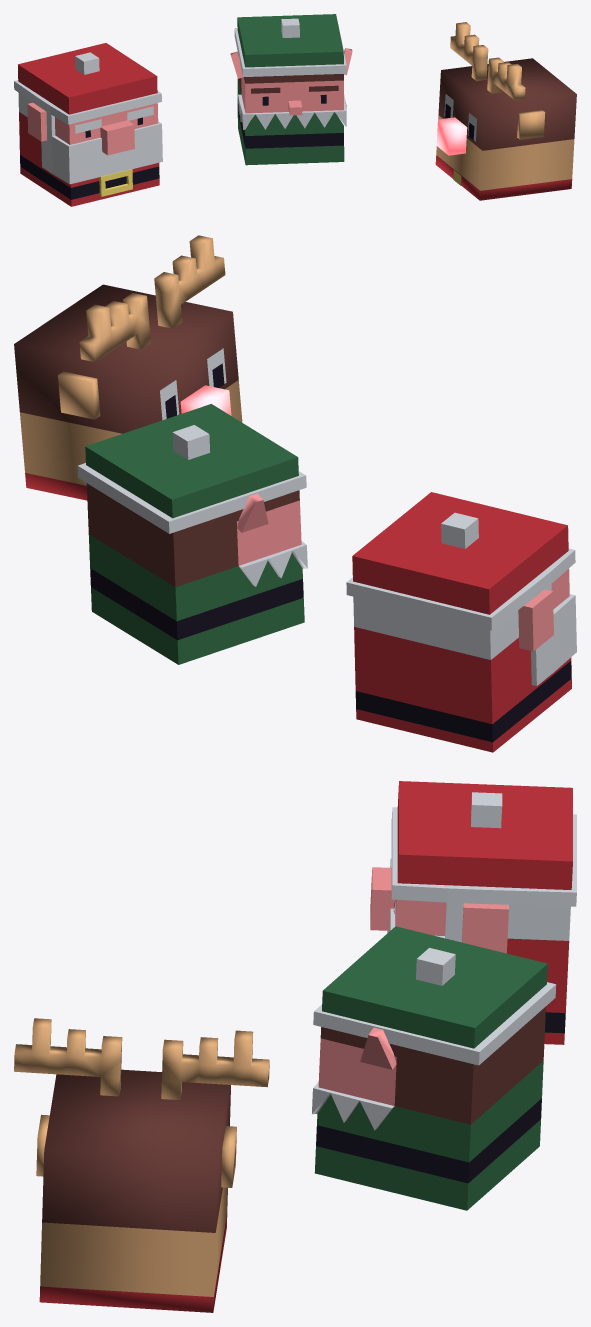
The picture shows the model from 3 angles, top to bottom: view 1: azimuth 30°, elevation 25°; view 2: azimuth 150°, elevation 25°; view 3: azimuth 270°, elevation 25°; orthographic projection. The views are drawn at different scales.
Parts seen in each view (by area): view 1: Santa_1, Rudolph_2, Elf_0; view 2: Santa_1, Elf_0, Rudolph_2; view 3: Elf_0, Rudolph_2, Santa_1.
Part boxes in pixels (left/top/right/bottom): Santa_1: left=14, top=43, right=162, bottom=206; Rudolph_2: left=435, top=22, right=576, bottom=200; Elf_0: left=230, top=14, right=352, bottom=165; Santa_1: left=346, top=492, right=576, bottom=752; Elf_0: left=77, top=404, right=307, bottom=664; Rudolph_2: left=14, top=235, right=242, bottom=500; Elf_0: left=312, top=926, right=556, bottom=1210; Rudolph_2: left=14, top=1018, right=269, bottom=1312; Santa_1: left=370, top=781, right=576, bottom=1044.
Size of the model in its own units: 9.51 by 3.01 by 6.46.
Materials: 3 (2 with a texture image).
